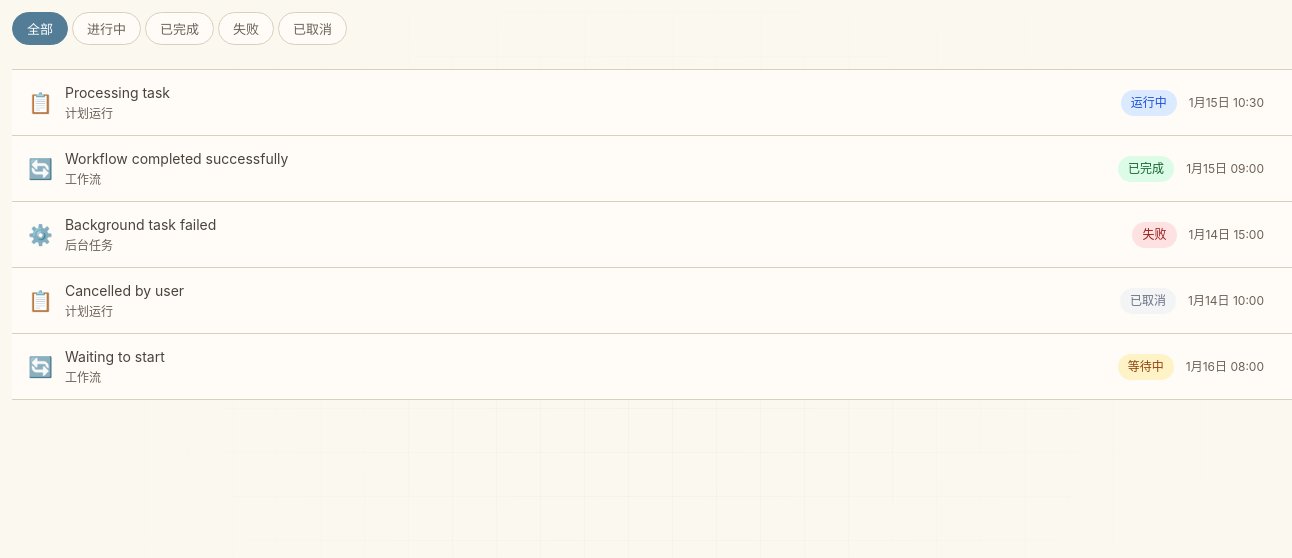
Test case: RunList › filters by active status
The width and height of the screenshot is (1292, 558).
Click the tab with test id "filter-active" at (106, 28), box [72, 12, 141, 45]
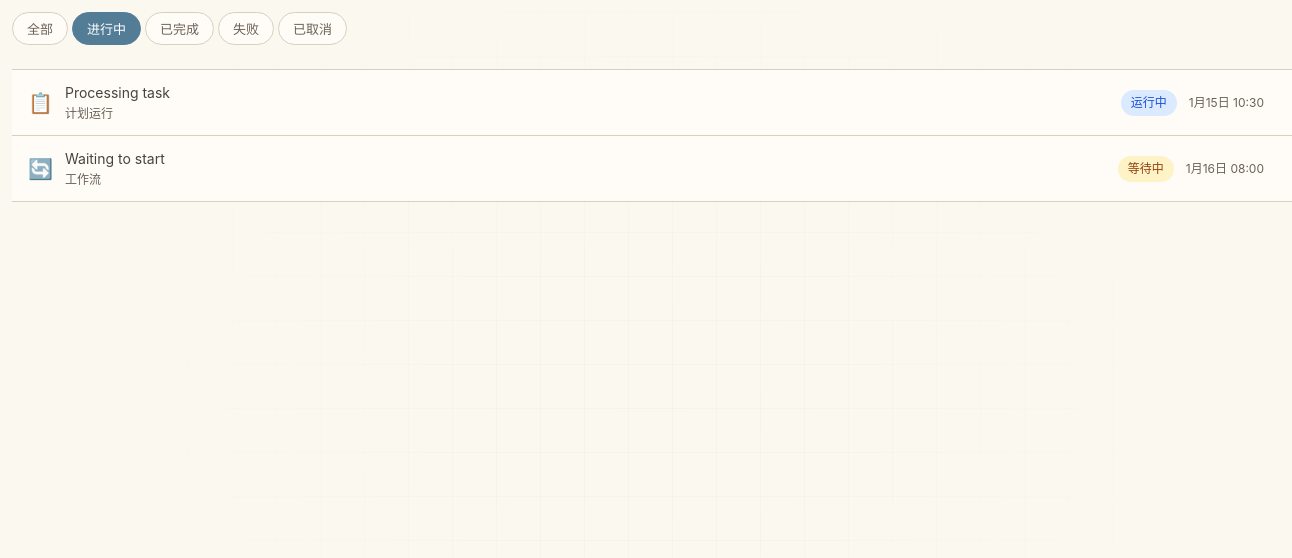
Expected: the list item with test id "run-row-run-2" is gone
Expected: the list item with test id "run-row-run-3" is gone
Expected: the list item with test id "run-row-run-4" is gone
